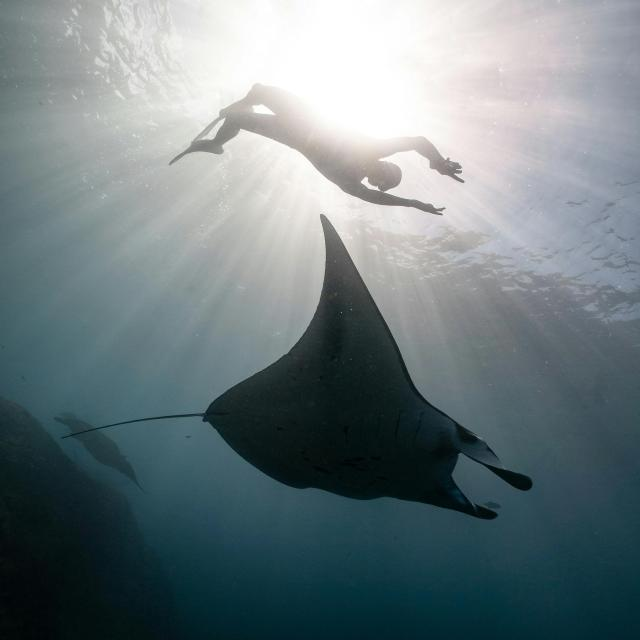fish: (171, 84, 464, 215)
stingray: (62, 215, 532, 519)
